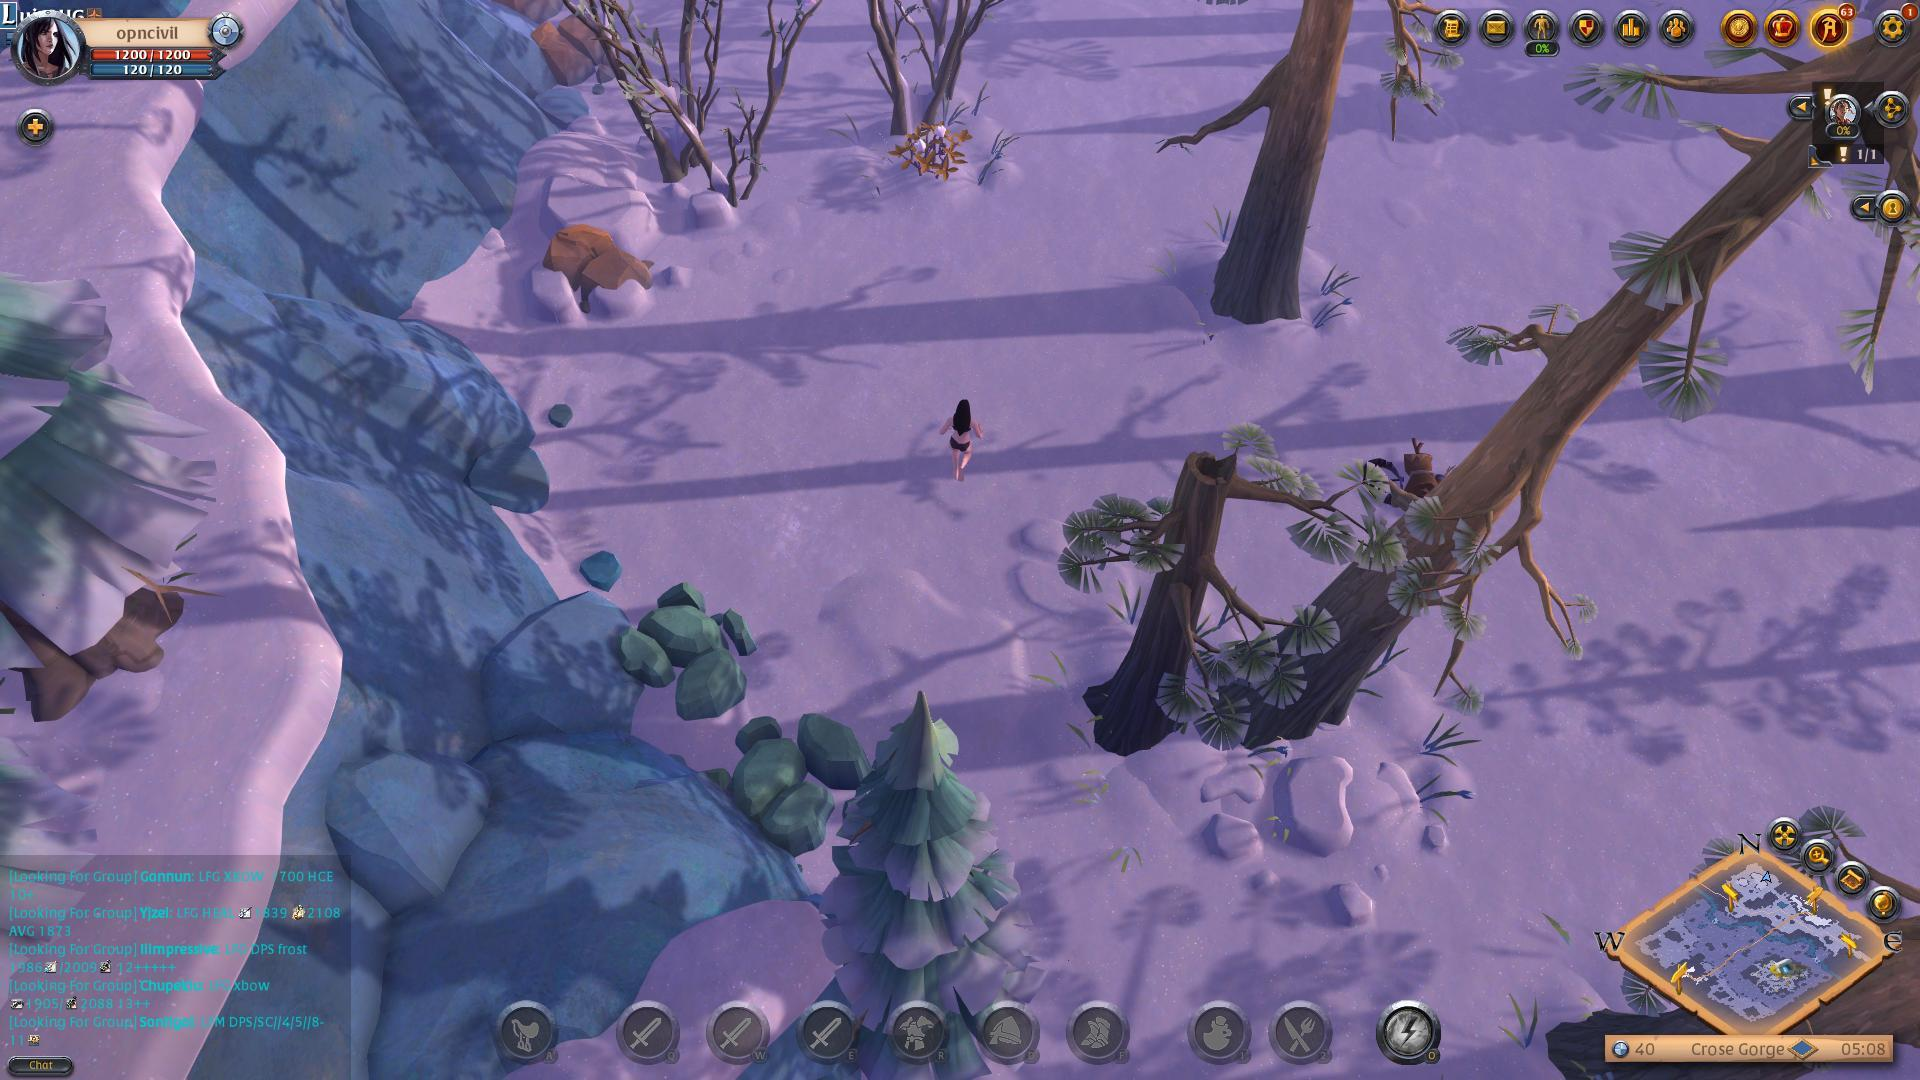cotton: (887, 113, 976, 191)
limestone: (533, 211, 654, 323), (531, 5, 629, 90)
sandstone: (708, 699, 858, 845), (617, 583, 761, 723)
